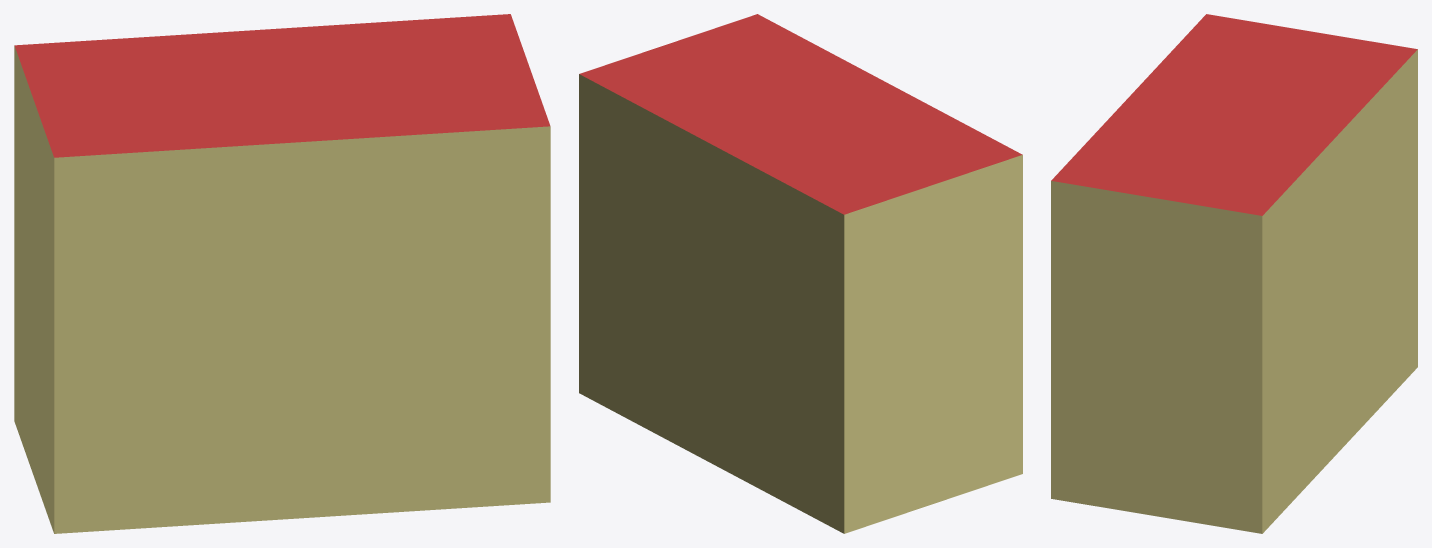
The picture shows the model from 3 angles, left to right: view 1: azimuth 30°, elevation 25°; view 2: azimuth 150°, elevation 25°; view 3: azimuth 270°, elevation 25°; orthographic projection. The views are drawn at different scales.
Bounding box in the file's own units: 7.41 × 5.69 × 5.44.
